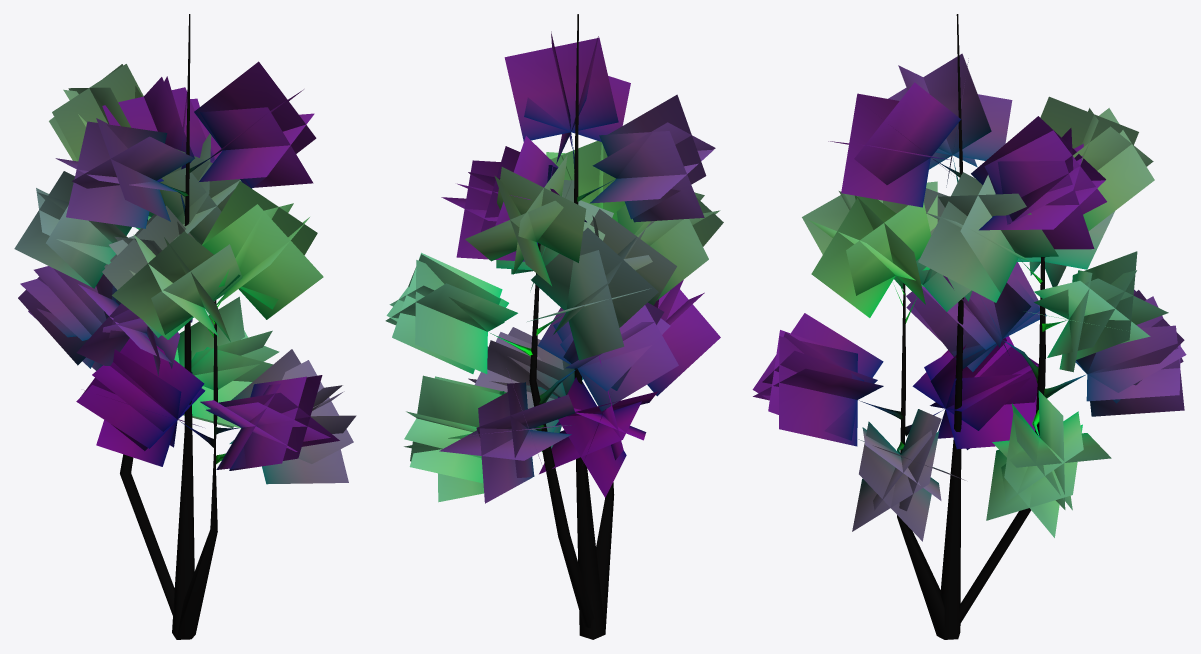
The model's file is URP_P6_Tree_8_LOD_3.fbx.
The picture shows the model from 3 angles, left to right: view 1: azimuth 30°, elevation 25°; view 2: azimuth 150°, elevation 25°; view 3: azimuth 270°, elevation 25°; orthographic projection.
Parts seen in each view (by area): view 1: Tree_8_LOD_3; view 2: Tree_8_LOD_3; view 3: Tree_8_LOD_3.
Part boxes in pixels (x1=…): Tree_8_LOD_3: x1=14, y1=14, x2=356, y2=639; Tree_8_LOD_3: x1=385, y1=14, x2=723, y2=639; Tree_8_LOD_3: x1=752, y1=14, x2=1186, y2=639.
Size of the model in its own units: 475 by 1112 by 699.
